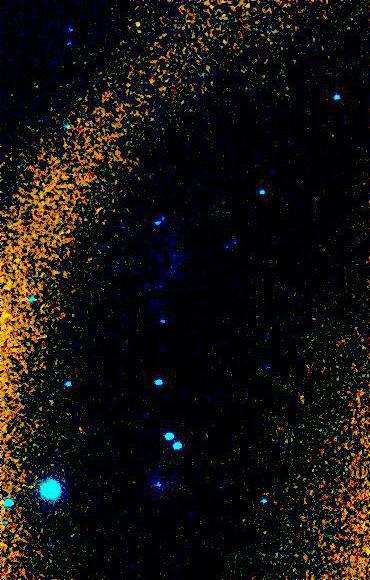star: (124, 9, 154, 39)
